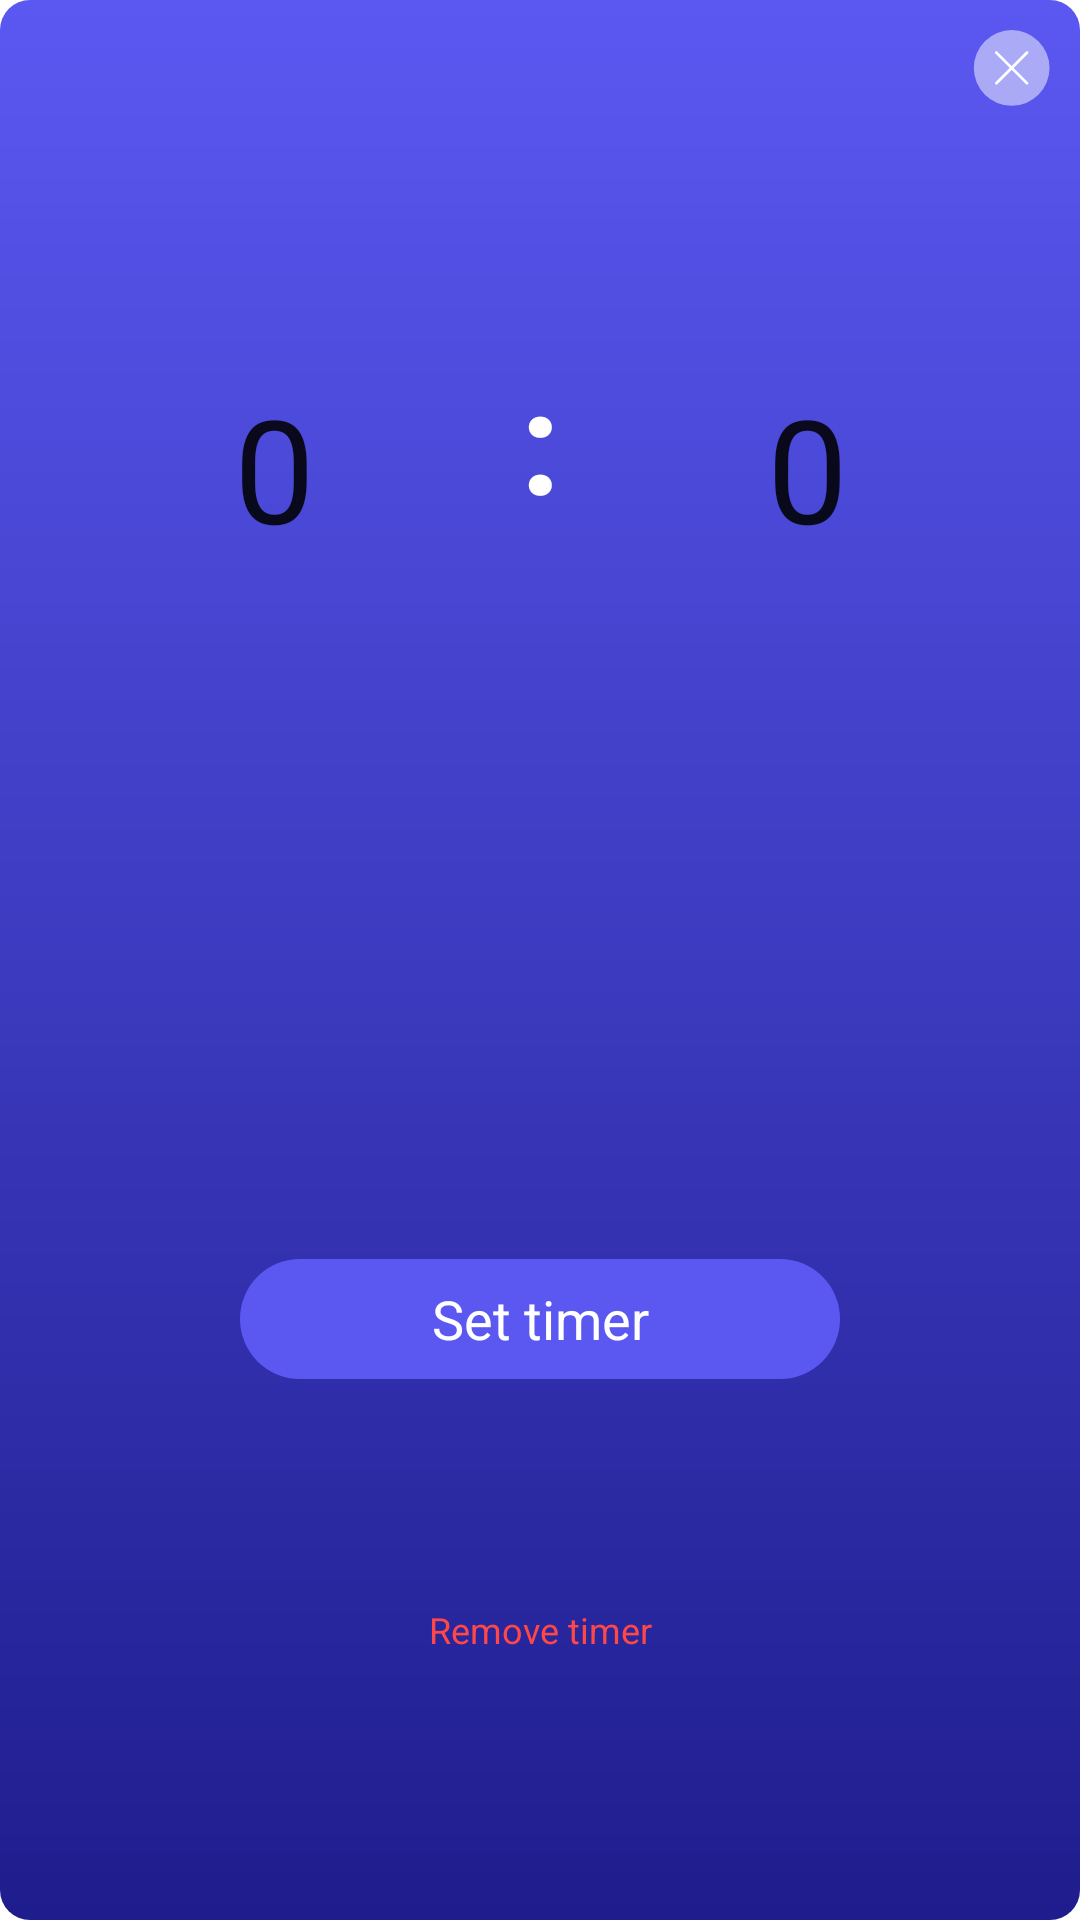

Where to tap for icons on this 1080x1920 app screen, as point (x, y):
closedialog: point (1012, 68)
